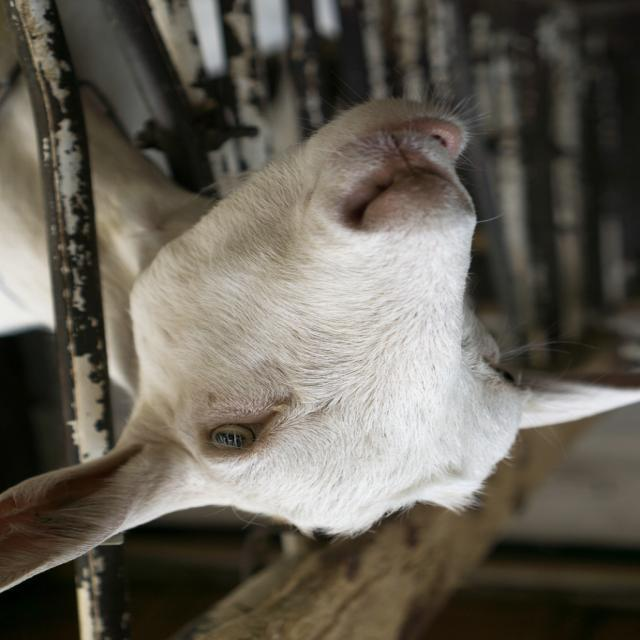Goat: (2, 8, 639, 597)
